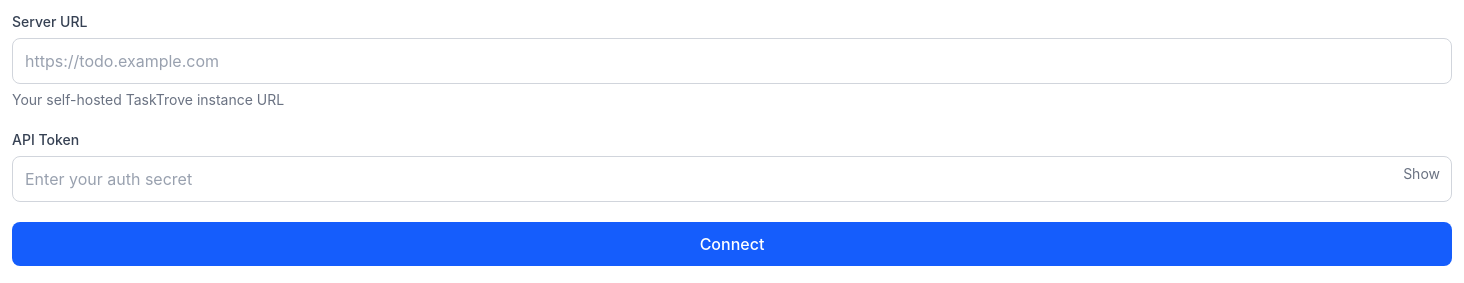
Test: SetupScreen › shows validation error for empty URL only
Type "my-secret" into the password field labelled "API Token" at [732, 179], box [12,156,1452,202]
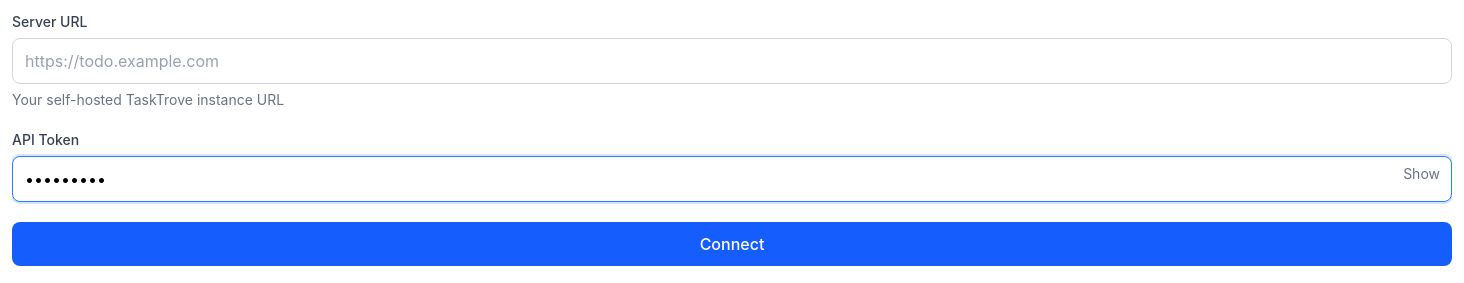
Click the button "Connect" at [732, 244], box [12,222,1452,266]
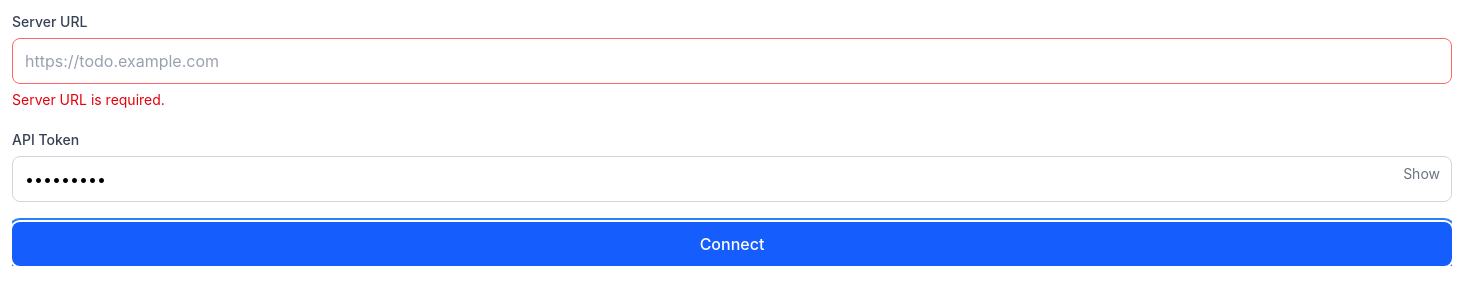
Check: the text "Server URL is required." is shown, box [12,91,165,108]
